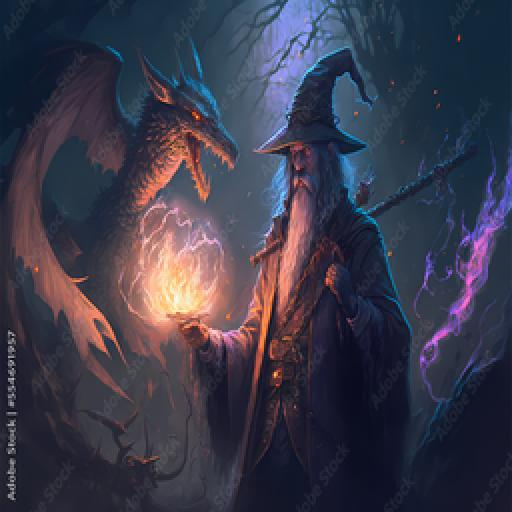wizards: (175, 46, 411, 501)
